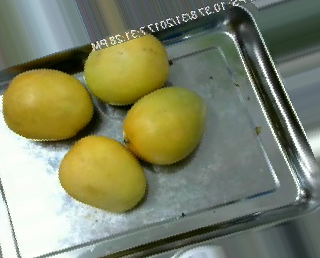Mango: (117, 87, 210, 163), (0, 66, 96, 139), (59, 135, 147, 213), (80, 35, 176, 104)
